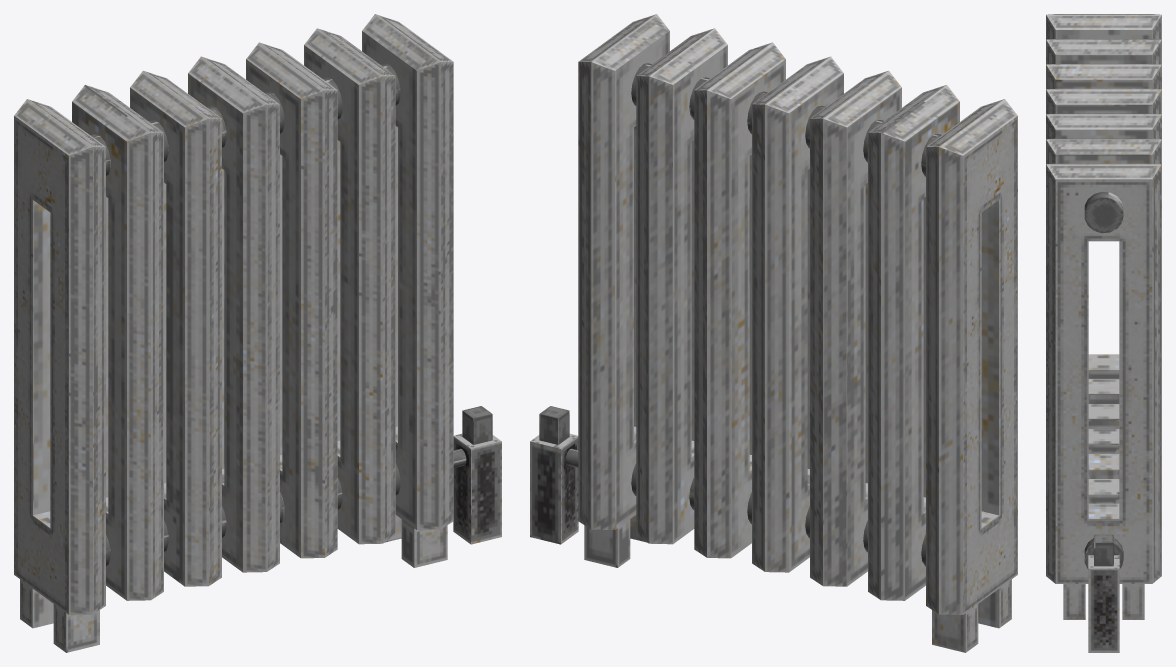
File: Radiator.fbx
3 renders of one model, left to right at view 1: azimuth 30°, elevation 25°; view 2: azimuth 150°, elevation 25°; view 3: azimuth 270°, elevation 25°, orthographic. The views are drawn at different scales.
Parts seen in each view (by area): view 1: Radiator; view 2: Radiator; view 3: Radiator.
Boxes of the visible parts, <box> form: Radiator: <box>14,14,501,652</box>; Radiator: <box>530,14,1017,652</box>; Radiator: <box>1046,14,1161,652</box>.
Bounding box in the file's own units: 19.65 × 77.84 × 84.57.
